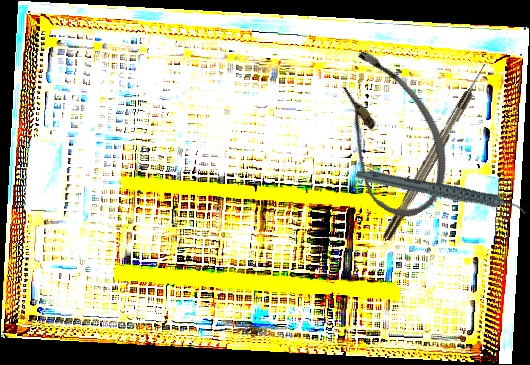Cannula: (305, 37, 471, 231)
Handpiece: (354, 136, 528, 251)
Hook Surgical: (380, 61, 491, 242)
